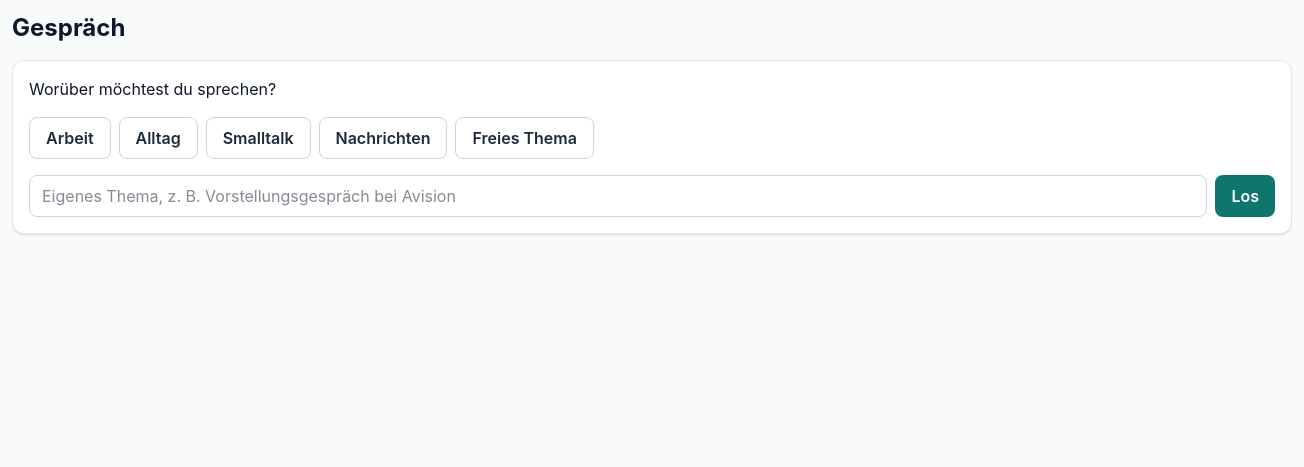
Scenario: Gespräch › explains a missing microphone and opens the text input
Click the button "Arbeit".
click(70, 138)  # box x1=29 y1=117 x2=110 y2=159
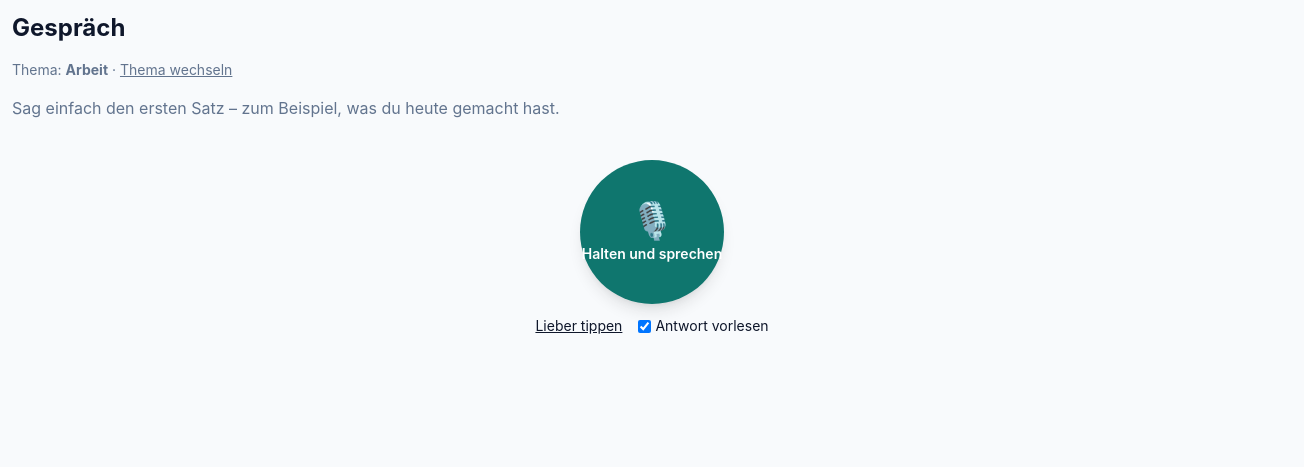
Expected: the button "🎙️ Halten und sprechen" is shown
Press the mouse on the button "🎙️ Halten und sprechen" at [652, 232], box x1=580 y1=160 x2=724 y2=304
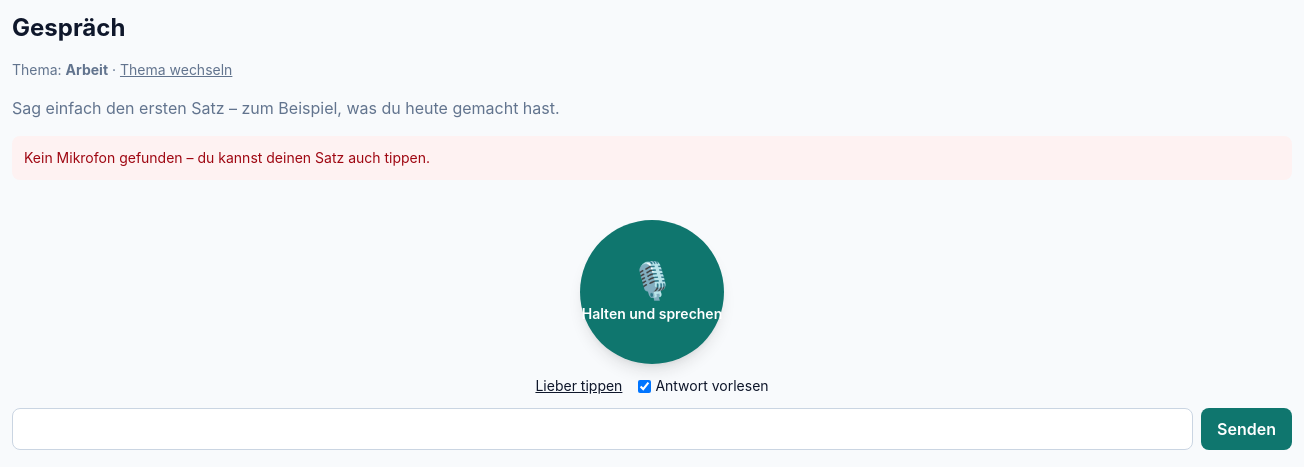
Expected: the message reads "Kein Mikrofon gefunden – du kannst deinen Satz auch tippen.", x1=24 y1=149 x2=430 y2=166
Expected: the field named "Dein Satz" is shown, x1=12 y1=408 x2=1193 y2=450
